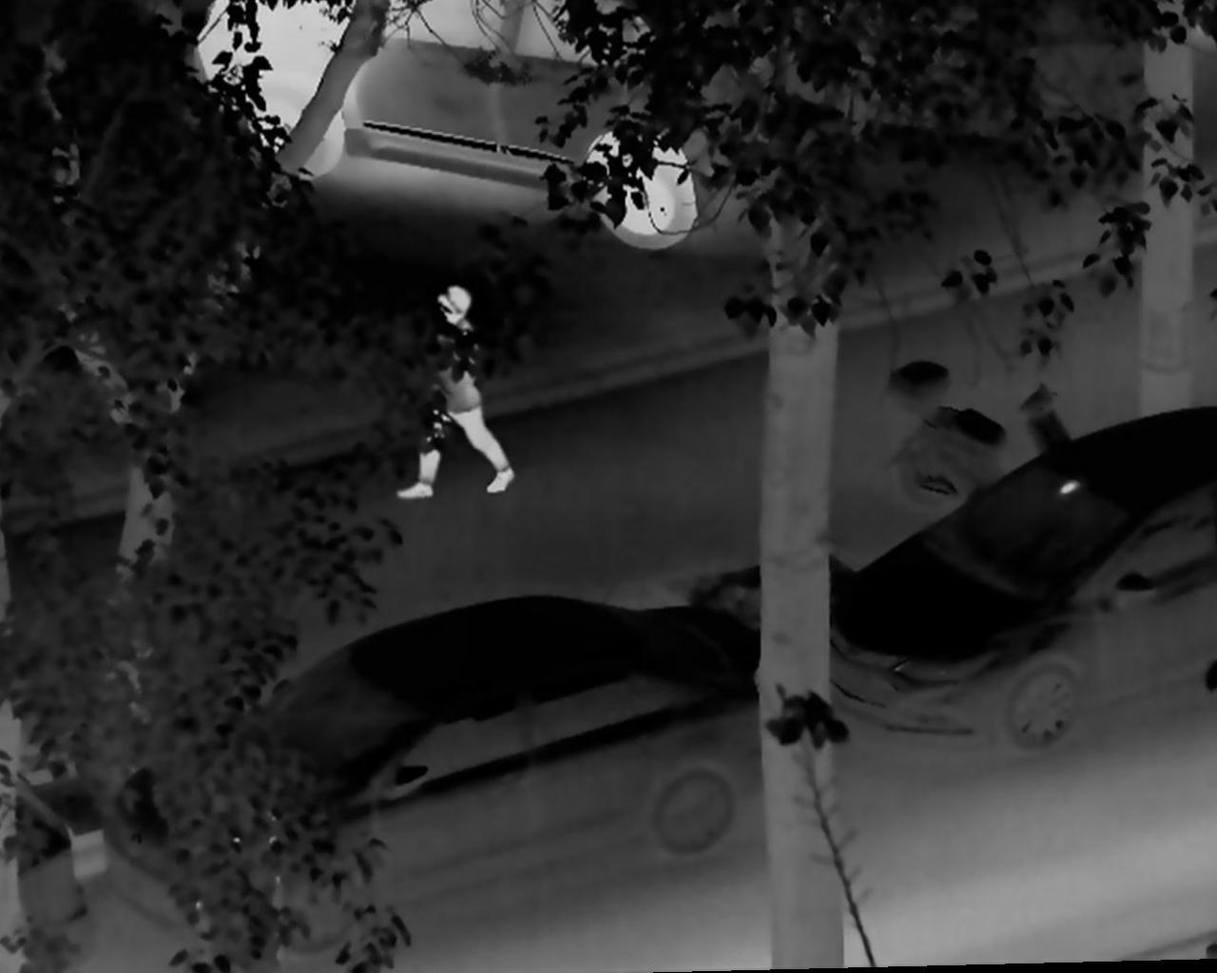person: (380, 274, 518, 502)
